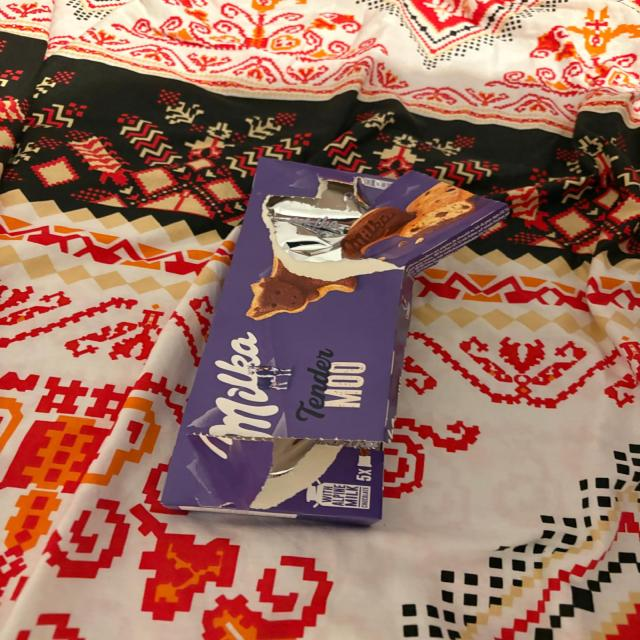damaged_package: (163, 158, 510, 528)
